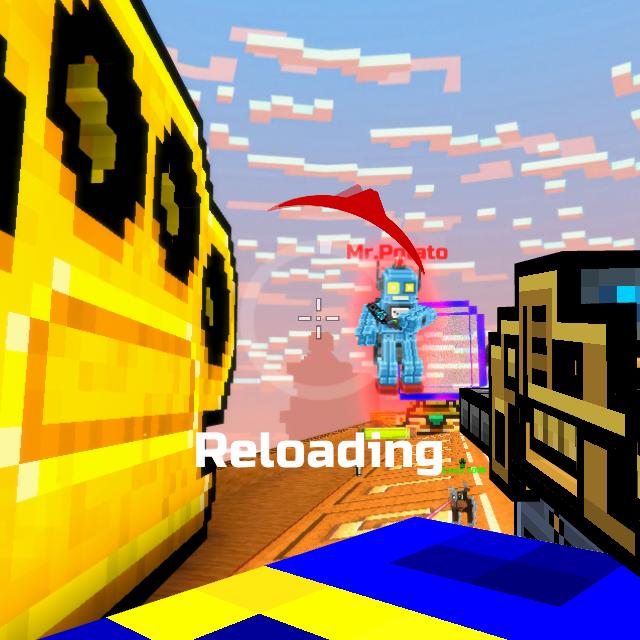Enemy: (355, 267, 437, 396)
